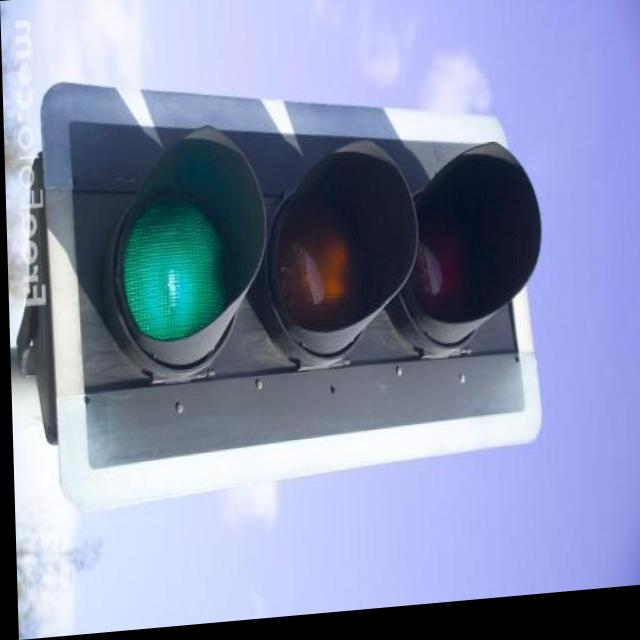green light: (68, 91, 541, 441)
